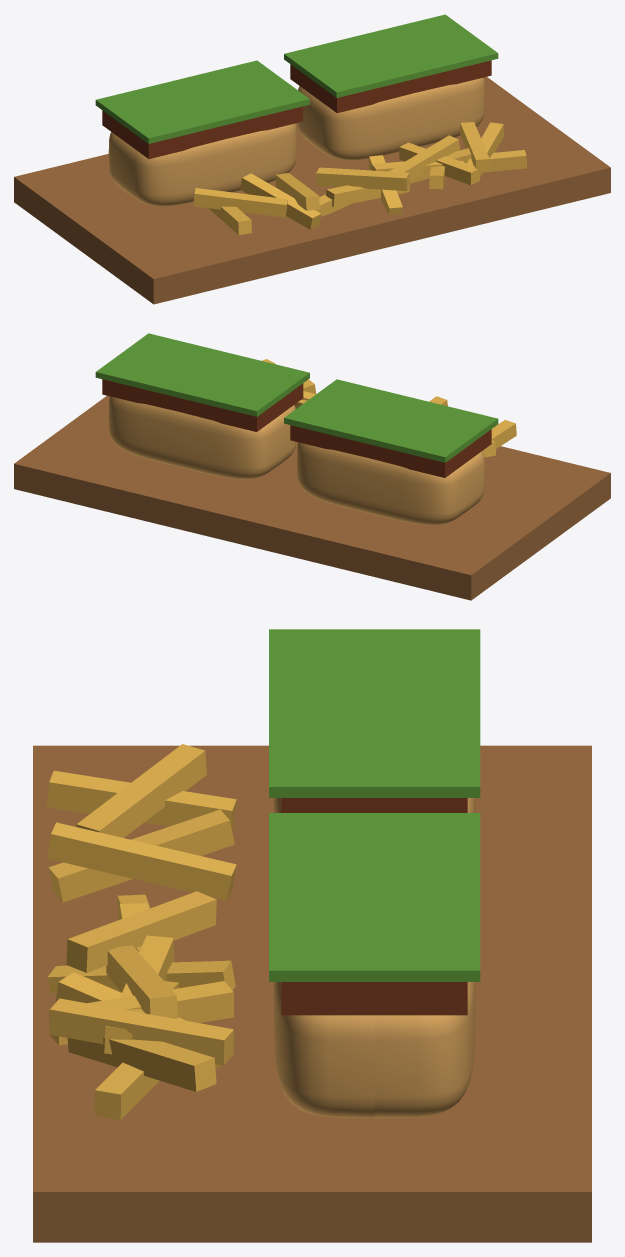
File: baguete.glb
3 views of the same model, one above another, from view 1: azimuth 30°, elevation 25°; view 2: azimuth 150°, elevation 25°; view 3: azimuth 270°, elevation 25° (orthographic). The views are drawn at different scales.
Parts seen in each view (by area): view 1: baguete; view 2: baguete; view 3: baguete.
Boxes of the visible parts, x1=… form: baguete: x1=14, y1=14, x2=610, y2=304; baguete: x1=14, y1=333, x2=610, y2=600; baguete: x1=33, y1=629, x2=591, y2=1242.
Bounding box in the file's own units: 0.34 × 0.078 × 0.18.
